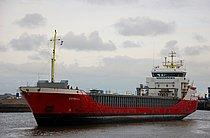Ship: (18, 30, 203, 131)
